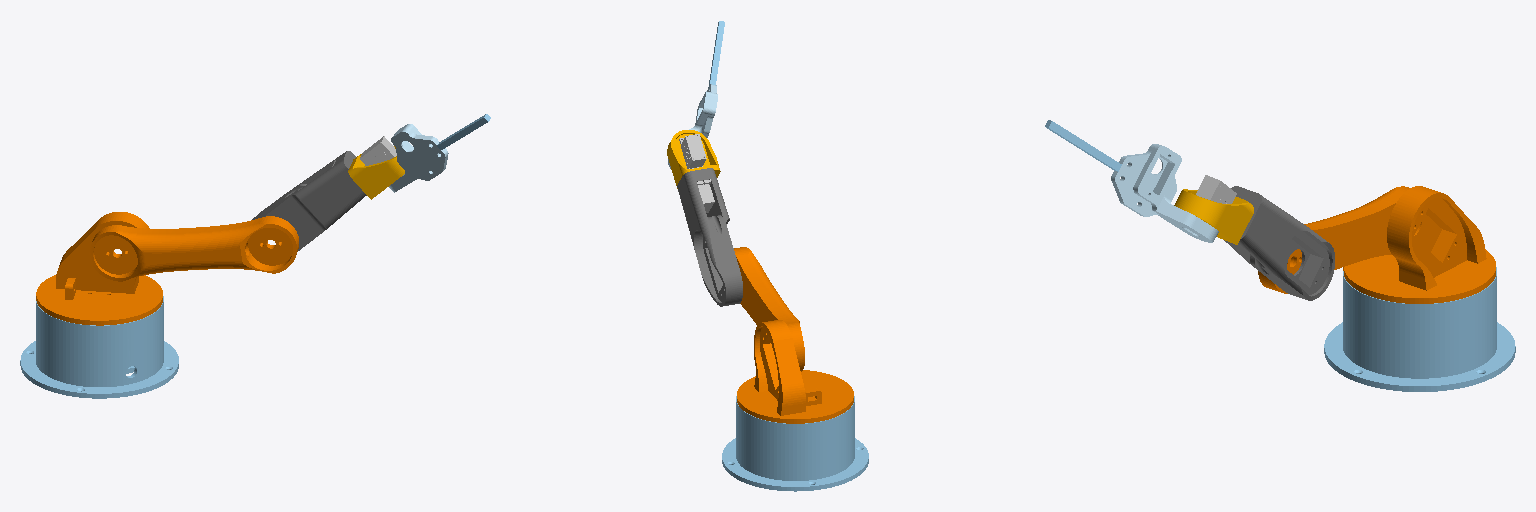
robot.urdf — robot:
<?xml version="1.0" ?>
<!-- Generated using onshape-to-robot -->
<!-- Onshape https://cad.onshape.com/documents/dbb8f7b72455dcb74730a11e/w/841ecca0f9b59e2bee4d5a29/e/db35c0f0a02e57af22c1cb1d -->
<robot name="robot">
  <!-- Link base -->
  <link name="base">
    <inertial>
      <origin xyz="-7.78184e-07 -0.000122266 0.0223033" rpy="0 0 0"/>
      <mass value="0.119991"/>
      <inertia ixx="0.000171893" ixy="5.7312e-10" ixz="-7.29556e-11" iyy="0.000159842" iyz="-4.88855e-06" izz="0.000259677"/>
    </inertial>
    <!-- Part base -->
    <visual>
      <origin xyz="-1.17772e-08 3.67761e-08 0.028" rpy="1.5708 -0 -1.5708"/>
      <geometry>
        <mesh filename="package://robot_description/urdf/assets/base.stl"/>
      </geometry>
      <material name="base_material">
        <color rgba="0.615686 0.811765 0.929412 1"/>
      </material>
    </visual>
    <collision>
      <origin xyz="-1.17772e-08 3.67761e-08 0.028" rpy="1.5708 -0 -1.5708"/>
      <geometry>
        <mesh filename="package://robot_description/urdf/assets/base.stl"/>
      </geometry>
    </collision>
    <!-- Part mg995 -->
    <visual>
      <origin xyz="-1.16649e-08 0.01025 0.011" rpy="0 -0 -1.5708"/>
      <geometry>
        <mesh filename="package://robot_description/urdf/assets/mg995.stl"/>
      </geometry>
      <material name="mg995_material">
        <color rgba="0.792157 0.819608 0.933333 1"/>
      </material>
    </visual>
    <collision>
      <origin xyz="-1.16649e-08 0.01025 0.011" rpy="0 -0 -1.5708"/>
      <geometry>
        <mesh filename="package://robot_description/urdf/assets/mg995.stl"/>
      </geometry>
    </collision>
  </link>
  <!-- Link part_15 -->
  <link name="part_15">
    <inertial>
      <origin xyz="-0.00643625 -0.00137164 -0.0172894" rpy="0 0 0"/>
      <mass value="0.0850159"/>
      <inertia ixx="7.2613e-05" ixy="-8.01679e-07" ixz="-6.46873e-06" iyy="5.62286e-05" iyz="-7.79796e-06" izz="6.82804e-05"/>
    </inertial>
    <!-- Part part_15 -->
    <visual>
      <origin xyz="1.62471e-09 -3.30872e-24 -0.0323882" rpy="-1.5708 -3.85186e-34 3.50339e-17"/>
      <geometry>
        <mesh filename="package://robot_description/urdf/assets/part_15.stl"/>
      </geometry>
      <material name="part_15_material">
        <color rgba="0.972549 0.529412 0.00392157 1"/>
      </material>
    </visual>
    <collision>
      <origin xyz="1.62471e-09 -3.30872e-24 -0.0323882" rpy="-1.5708 -3.85186e-34 3.50339e-17"/>
      <geometry>
        <mesh filename="package://robot_description/urdf/assets/part_15.stl"/>
      </geometry>
    </collision>
    <!-- Part mg995_2 -->
    <visual>
      <origin xyz="-0.047 -0.00667066 -0.0330286" rpy="-1.5708 0.785398 -1.5708"/>
      <geometry>
        <mesh filename="package://robot_description/urdf/assets/mg995.stl"/>
      </geometry>
      <material name="mg995_2_material">
        <color rgba="0.792157 0.819608 0.933333 1"/>
      </material>
    </visual>
    <collision>
      <origin xyz="-0.047 -0.00667066 -0.0330286" rpy="-1.5708 0.785398 -1.5708"/>
      <geometry>
        <mesh filename="package://robot_description/urdf/assets/mg995.stl"/>
      </geometry>
    </collision>
  </link>
  <!-- Link part_7 -->
  <link name="part_7">
    <inertial>
      <origin xyz="7.07908e-08 -0.0607947 0.00778456" rpy="0 0 0"/>
      <mass value="0.0798388"/>
      <inertia ixx="0.000133734" ixy="3.91739e-09" ixz="-2.64912e-11" iyy="1.1365e-05" iyz="2.99242e-07" izz="0.000139742"/>
    </inertial>
    <!-- Part part_7 -->
    <visual>
      <origin xyz="-0.000612362 -0.0623379 0.0105" rpy="-9.76574e-17 -1.73595e-18 -1.36829e-17"/>
      <geometry>
        <mesh filename="package://robot_description/urdf/assets/part_7.stl"/>
      </geometry>
      <material name="part_7_material">
        <color rgba="0.972549 0.529412 0.00392157 1"/>
      </material>
    </visual>
    <collision>
      <origin xyz="-0.000612362 -0.0623379 0.0105" rpy="-9.76574e-17 -1.73595e-18 -1.36829e-17"/>
      <geometry>
        <mesh filename="package://robot_description/urdf/assets/part_7.stl"/>
      </geometry>
    </collision>
  </link>
  <!-- Link part_8 -->
  <link name="part_8">
    <inertial>
      <origin xyz="2.83935e-05 -0.0392827 -0.00740868" rpy="0 0 0"/>
      <mass value="0.0628155"/>
      <inertia ixx="6.82108e-05" ixy="8.6216e-08" ixz="-1.70688e-10" iyy="1.15999e-05" iyz="-3.58484e-07" izz="7.26421e-05"/>
    </inertial>
    <!-- Part mg995_3 -->
    <visual>
      <origin xyz="4.03941e-09 -0.01025 -0.042" rpy="-3.91335e-16 -1.78887e-16 1.5708"/>
      <geometry>
        <mesh filename="package://robot_description/urdf/assets/mg995.stl"/>
      </geometry>
      <material name="mg995_3_material">
        <color rgba="0.792157 0.819608 0.933333 1"/>
      </material>
    </visual>
    <collision>
      <origin xyz="4.03941e-09 -0.01025 -0.042" rpy="-3.91335e-16 -1.78887e-16 1.5708"/>
      <geometry>
        <mesh filename="package://robot_description/urdf/assets/mg995.stl"/>
      </geometry>
    </collision>
    <!-- Part sg90_v1 -->
    <visual>
      <origin xyz="-0.01105 -0.06145 -0.013688" rpy="3.13951 -3.21993e-16 -2.10215e-16"/>
      <geometry>
        <mesh filename="package://robot_description/urdf/assets/sg90_v1.stl"/>
      </geometry>
      <material name="sg90_v1_material">
        <color rgba="0.796078 0.796078 0.796078 1"/>
      </material>
    </visual>
    <collision>
      <origin xyz="-0.01105 -0.06145 -0.013688" rpy="3.13951 -3.21993e-16 -2.10215e-16"/>
      <geometry>
        <mesh filename="package://robot_description/urdf/assets/sg90_v1.stl"/>
      </geometry>
    </collision>
    <!-- Part part_8 -->
    <visual>
      <origin xyz="-1.36336e-09 -0.03225 -0.0075" rpy="3.14159 -5.15449e-17 -5.99715e-17"/>
      <geometry>
        <mesh filename="package://robot_description/urdf/assets/part_8.stl"/>
      </geometry>
      <material name="part_8_material">
        <color rgba="0.498039 0.498039 0.498039 1"/>
      </material>
    </visual>
    <collision>
      <origin xyz="-1.36336e-09 -0.03225 -0.0075" rpy="3.14159 -5.15449e-17 -5.99715e-17"/>
      <geometry>
        <mesh filename="package://robot_description/urdf/assets/part_8.stl"/>
      </geometry>
    </collision>
  </link>
  <!-- Link part_9 -->
  <link name="part_9">
    <inertial>
      <origin xyz="0 0 0" rpy="0 0 0"/>
      <mass value="1e-09"/>
      <inertia ixx="1e-09" ixy="0" ixz="0" iyy="1e-09" iyz="0" izz="1e-09"/>
    </inertial>
    <!-- Part sg90_v1_2 -->
    <visual>
      <origin xyz="0.011188 0.0148 -0.03405" rpy="3.13951 -1.5708 0"/>
      <geometry>
        <mesh filename="package://robot_description/urdf/assets/sg90_v1.stl"/>
      </geometry>
      <material name="sg90_v1_2_material">
        <color rgba="0.796078 0.796078 0.796078 1"/>
      </material>
    </visual>
    <collision>
      <origin xyz="0.011188 0.0148 -0.03405" rpy="3.13951 -1.5708 0"/>
      <geometry>
        <mesh filename="package://robot_description/urdf/assets/sg90_v1.stl"/>
      </geometry>
    </collision>
    <!-- Part part_9 -->
    <visual>
      <origin xyz="0.005 4.99634e-10 -0.023" rpy="-1.5708 -7.99122e-18 1.04057e-17"/>
      <geometry>
        <mesh filename="package://robot_description/urdf/assets/part_9.stl"/>
      </geometry>
      <material name="part_9_material">
        <color rgba="0.980392 0.713725 0.00392157 1"/>
      </material>
    </visual>
    <collision>
      <origin xyz="0.005 4.99634e-10 -0.023" rpy="-1.5708 -7.99122e-18 1.04057e-17"/>
      <geometry>
        <mesh filename="package://robot_description/urdf/assets/part_9.stl"/>
      </geometry>
    </collision>
  </link>
  <!-- Link part_14 -->
  <link name="part_14">
    <inertial>
      <origin xyz="0.00581792 0.0235542 0.00197611" rpy="0 0 0"/>
      <mass value="0.0196507"/>
      <inertia ixx="1.01415e-05" ixy="-1.70478e-06" ixz="-4.37832e-07" iyy="3.19938e-06" iyz="-1.78514e-06" izz="9.05621e-06"/>
    </inertial>
    <!-- Part part_14 -->
    <visual>
      <origin xyz="-1.88701e-09 0.0245 0.0082" rpy="-1.5708 -1.5708 0"/>
      <geometry>
        <mesh filename="package://robot_description/urdf/assets/part_14.stl"/>
      </geometry>
      <material name="part_14_material">
        <color rgba="0.768627 0.886275 0.952941 1"/>
      </material>
    </visual>
    <collision>
      <origin xyz="-1.88701e-09 0.0245 0.0082" rpy="-1.5708 -1.5708 0"/>
      <geometry>
        <mesh filename="package://robot_description/urdf/assets/part_14.stl"/>
      </geometry>
    </collision>
    <!-- Part simplified_part_attachment -->
    <visual>
      <origin xyz="0.0115 0.093353 0.00146" rpy="1.365e-15 -5.25104e-16 3.14159"/>
      <geometry>
        <mesh filename="package://robot_description/urdf/assets/simplified_part_attachment.stl"/>
      </geometry>
      <material name="simplified_part_attachment_material">
        <color rgba="0.615686 0.811765 0.929412 1"/>
      </material>
    </visual>
    <collision>
      <origin xyz="0.0115 0.093353 0.00146" rpy="1.365e-15 -5.25104e-16 3.14159"/>
      <geometry>
        <mesh filename="package://robot_description/urdf/assets/simplified_part_attachment.stl"/>
      </geometry>
    </collision>
  </link>
  <!-- Joint from part_9 to part_14 -->
  <joint name="joint_5" type="revolute">
    <origin xyz="0.005 -0.014 -0.028" rpy="-1.5708 -0.412425 -7.74018e-15"/>
    <parent link="part_9"/>
    <child link="part_14"/>
    <axis xyz="0 0 1"/>
    <limit effort="10" velocity="10" lower="-1.15837" upper="1.98322"/>
  </joint>
  <!-- Joint from part_8 to part_9 -->
  <joint name="joint_4" type="revolute">
    <origin xyz="-0.0053 -0.08975 -0.0075" rpy="-1.5708 -1.52895 -7.62844e-14"/>
    <parent link="part_8"/>
    <child link="part_9"/>
    <axis xyz="0 0 1"/>
    <limit effort="10" velocity="10" lower="-0.0418501" upper="3.09974"/>
  </joint>
  <!-- Joint from part_7 to part_8 -->
  <joint name="joint_3" type="revolute">
    <origin xyz="-4.04768e-09 -0.12 8.58688e-17" rpy="2.50215e-15 5.38531e-15 0.605294"/>
    <parent link="part_7"/>
    <child link="part_8"/>
    <axis xyz="0 0 1"/>
    <limit effort="10" velocity="10" lower="-2.17609" upper="0.965502"/>
  </joint>
  <!-- Joint from part_15 to part_7 -->
  <joint name="joint_2" type="revolute">
    <origin xyz="-0.004 -0.0139185 -0.0402765" rpy="1.5708 1.4363 1.5708"/>
    <parent link="part_15"/>
    <child link="part_7"/>
    <axis xyz="0 0 1"/>
    <limit effort="10" velocity="10" lower="-0.134493" upper="3.0071"/>
  </joint>
  <!-- Joint from base to part_15 -->
  <joint name="joint_1" type="revolute">
    <origin xyz="-2.08489e-08 1.03674e-08 0.056" rpy="-3.14159 1.84871e-18 -2.24924"/>
    <parent link="base"/>
    <child link="part_15"/>
    <axis xyz="0 0 1"/>
    <limit effort="10" velocity="10" lower="-0.678448" upper="2.46314"/>
  </joint>
</robot>

--- Facts derived from the render (not from the file) ---
The picture shows the robot from 3 angles, left to right: view 1: azimuth 30°, elevation 25°; view 2: azimuth 150°, elevation 25°; view 3: azimuth 270°, elevation 25°; orthographic projection.
Model robot with 6 links and 5 joints (5 revolute), rooted at base, posed all joints at 0.
Links seen in each view (by area): view 1: base, part_7, part_15, part_8, part_14, part_9; view 2: base, part_15, part_8, part_7, part_9, part_14; view 3: base, part_15, part_8, part_14, part_7, part_9.
Boxes of the visible links, <box> form: base: <box>20,296,178,398</box>; part_7: <box>89,216,298,281</box>; part_15: <box>36,212,162,325</box>; part_8: <box>252,151,366,250</box>; part_14: <box>389,114,490,192</box>; part_9: <box>348,136,404,199</box>; base: <box>722,396,868,491</box>; part_15: <box>737,320,853,423</box>; part_8: <box>677,168,742,306</box>; part_7: <box>734,247,804,371</box>; part_9: <box>667,130,720,188</box>; part_14: <box>668,21,724,168</box>; base: <box>1324,267,1515,391</box>; part_15: <box>1343,186,1495,303</box>; part_8: <box>1224,186,1334,300</box>; part_14: <box>1045,120,1218,242</box>; part_7: <box>1258,186,1409,293</box>; part_9: <box>1174,175,1253,244</box>.
Size in the robot's own frame: 0.2704 by 0.2988 by 0.2582 metres.
Meshes: 9 distinct files referenced, 9 mesh visuals loaded (8 binary STL); not drawn: 3 (reference not matched to a file when rendering).